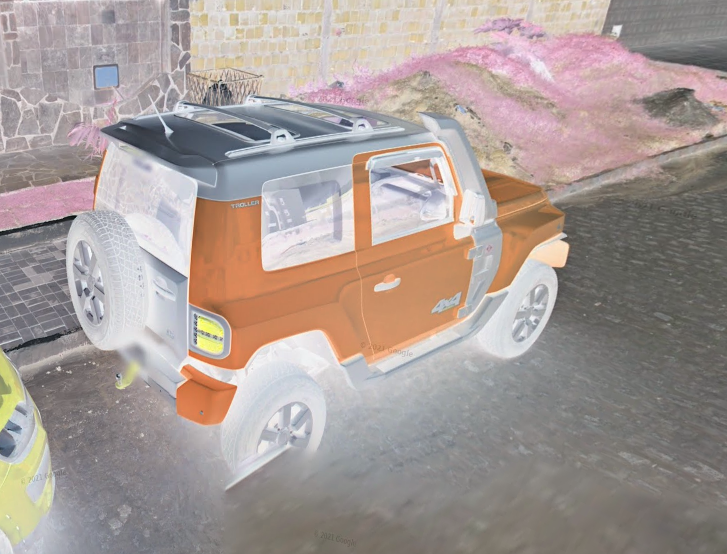car: (62, 88, 571, 483)
